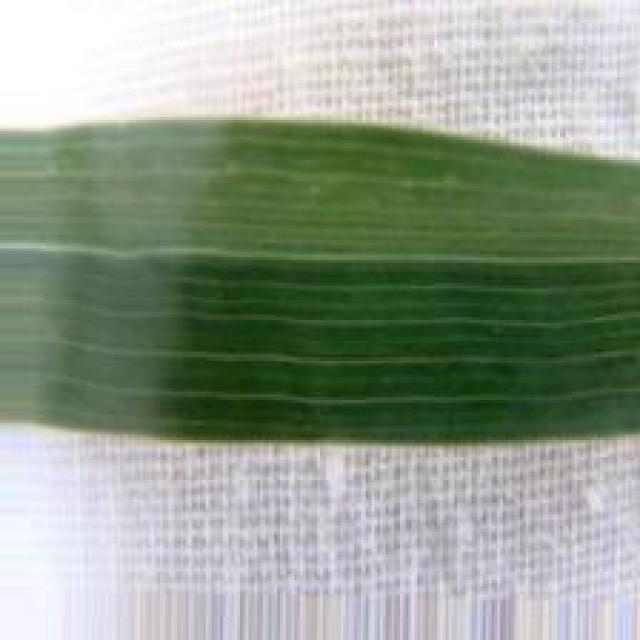Healthy: (0, 116, 640, 444)
